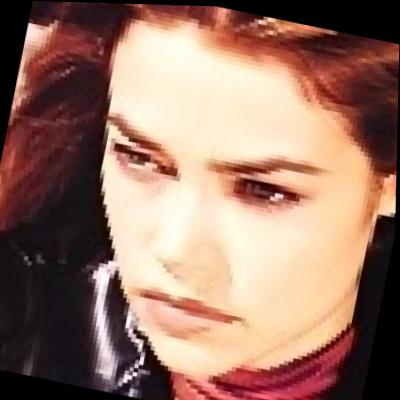angry: (60, 12, 400, 393)
